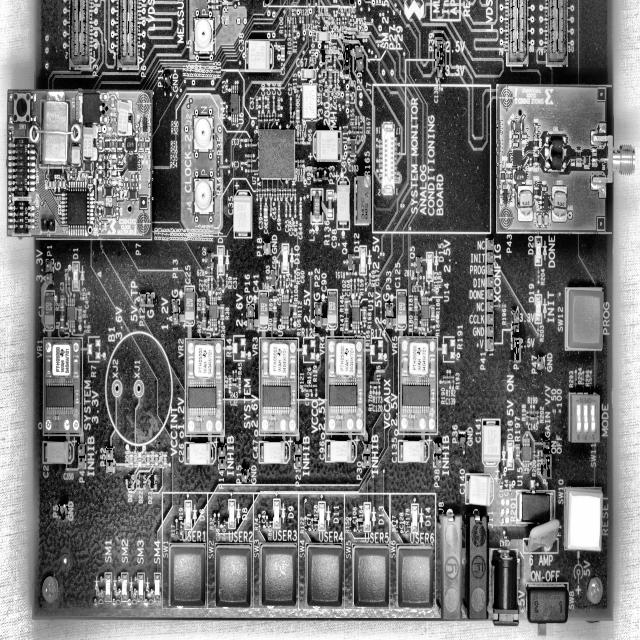PCB: (7, 1, 614, 640)
